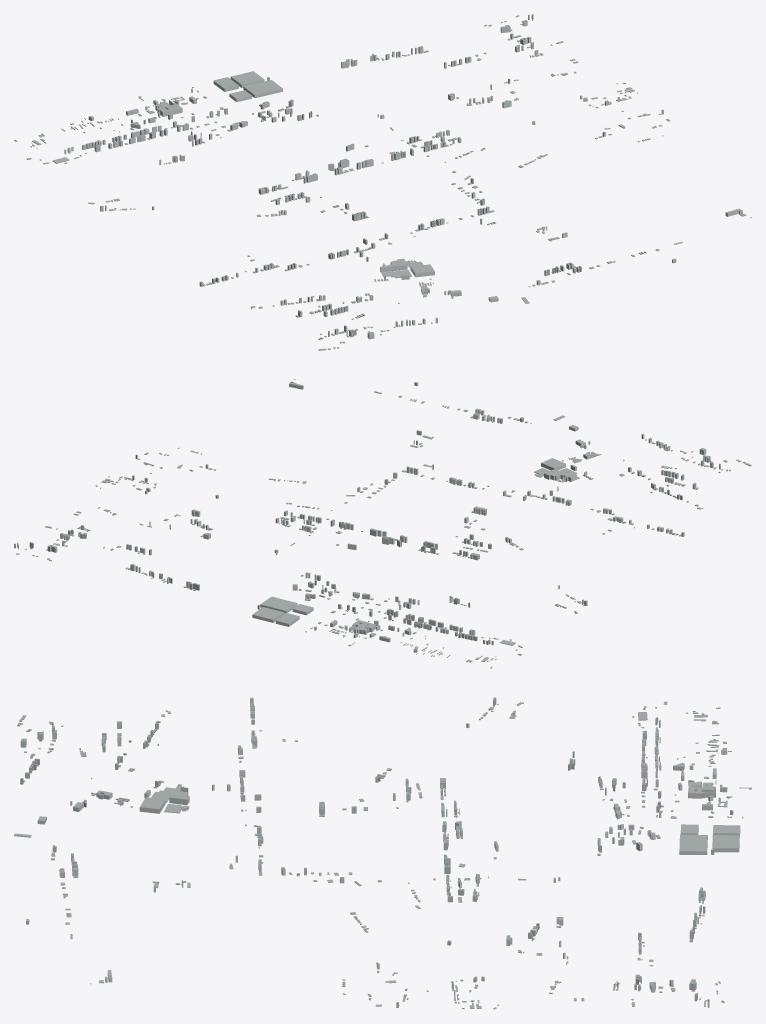
File: far.glb
3 renders of one model, top to bottom at view 1: azimuth 30°, elevation 25°; view 2: azimuth 150°, elevation 25°; view 3: azimuth 270°, elevation 25°, orthographic. The views are drawn at different scales.
Bounding box in the file's own units: 2095 × 23.5 × 2128.
